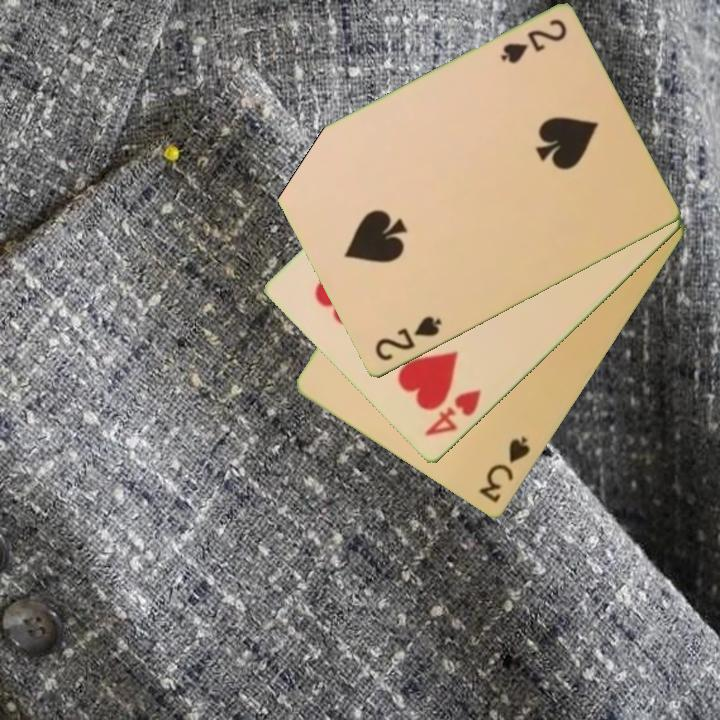2s: (371, 313, 445, 365), (496, 16, 570, 68)
3s: (475, 433, 534, 507)
4h: (421, 385, 484, 440)
